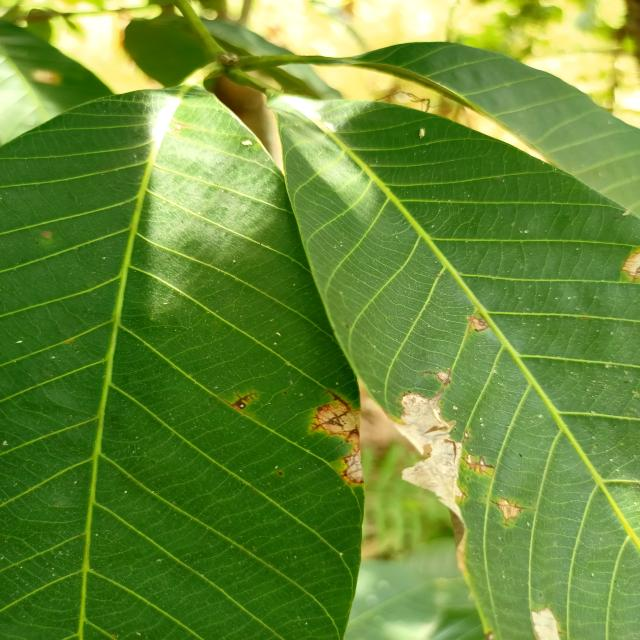Colletotrichum: (238, 403, 246, 409), (317, 407, 322, 411), (278, 472, 283, 475), (519, 509, 522, 513), (539, 593, 542, 597), (466, 477, 469, 480), (311, 426, 315, 428), (284, 392, 288, 394)
Corynespora: (310, 410, 350, 432), (320, 389, 351, 412), (461, 452, 494, 473), (420, 368, 452, 388), (232, 390, 260, 408), (466, 315, 488, 333), (490, 499, 500, 508)
Leaf-Blight: (389, 392, 466, 567), (320, 404, 372, 443), (531, 606, 560, 640), (345, 444, 369, 484), (623, 249, 640, 278)
